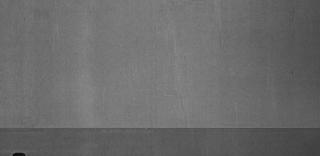welding line: (1, 122, 320, 136)
